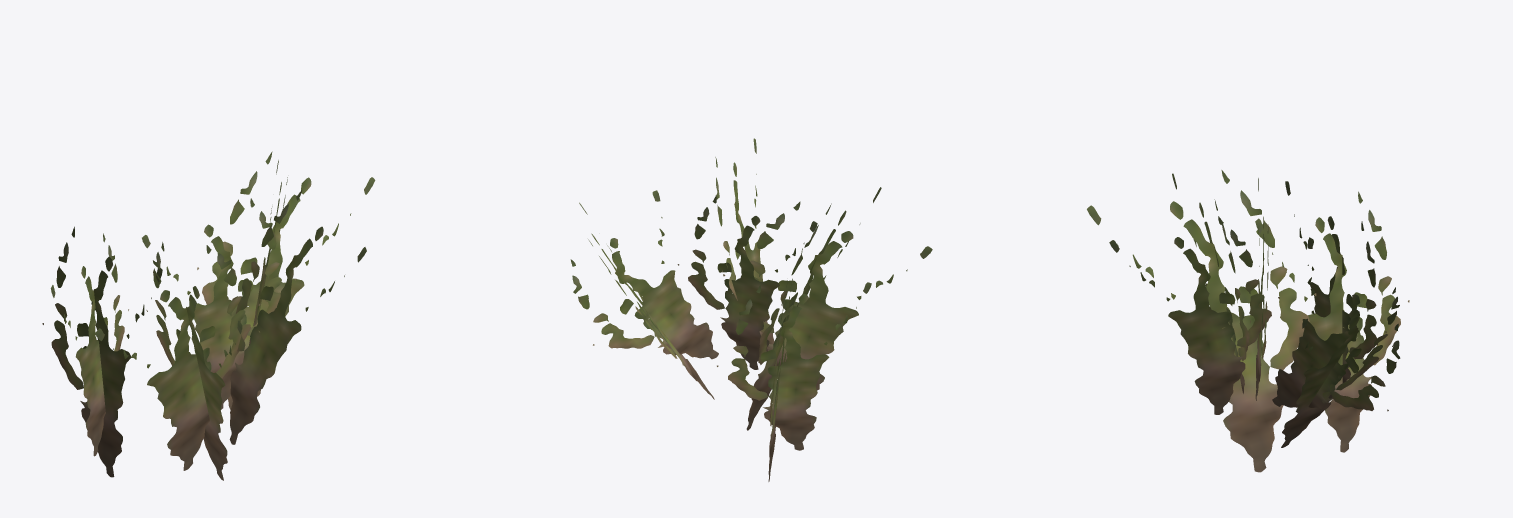
File: sm_grassMesh01.fbx
3 views of the same model, side by side, from view 1: azimuth 30°, elevation 25°; view 2: azimuth 150°, elevation 25°; view 3: azimuth 270°, elevation 25° (orthographic). The views are drawn at different scales.
Parts seen in each view (by area): view 1: sm_grassMesh_01; view 2: sm_grassMesh_01; view 3: sm_grassMesh_01.
Part boxes in pixels (bbox=[...]): sm_grassMesh_01: bbox=[42, 151, 375, 480]; sm_grassMesh_01: bbox=[570, 138, 932, 481]; sm_grassMesh_01: bbox=[1087, 170, 1409, 472].
Size of the model in its own units: 171 by 158 by 158.
1 material, 1 textured.
